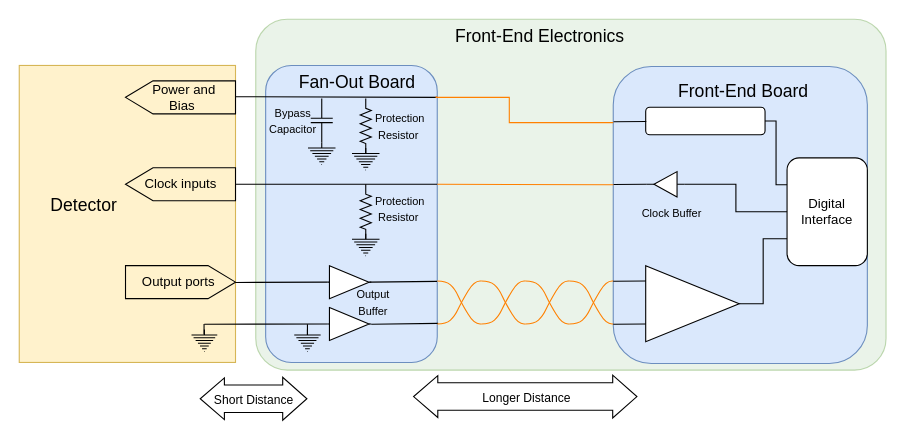
Image size: 905x440. Some labels were removed from this diagram. Here are the shapes that lost their labels. From the top down, the centre of each, then its label:
At pixel 705 120: "Voltage Generator".
At pixel 692 303: "Amplifier and ADC".
